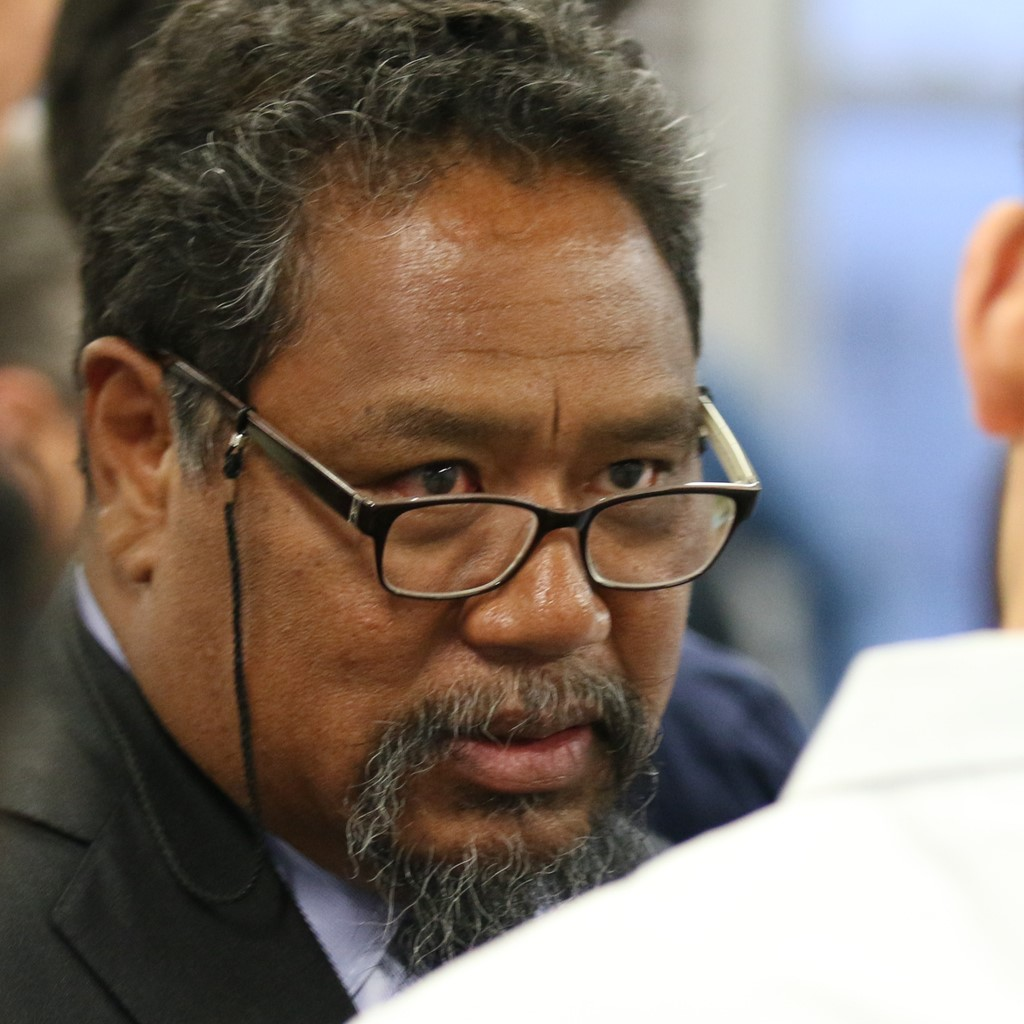sin_mascara: (109, 64, 720, 906)
